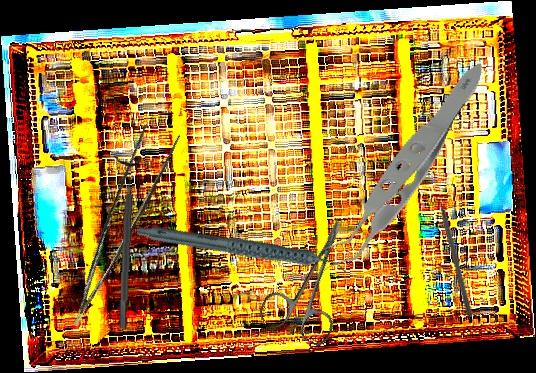Fixation Ring: (108, 157, 143, 329)
Handpiece: (135, 184, 349, 318)
Iris Scissors: (256, 205, 376, 349)
Pusher: (433, 182, 475, 319)
Tissue Forceps: (267, 61, 533, 276), (41, 117, 187, 327)
